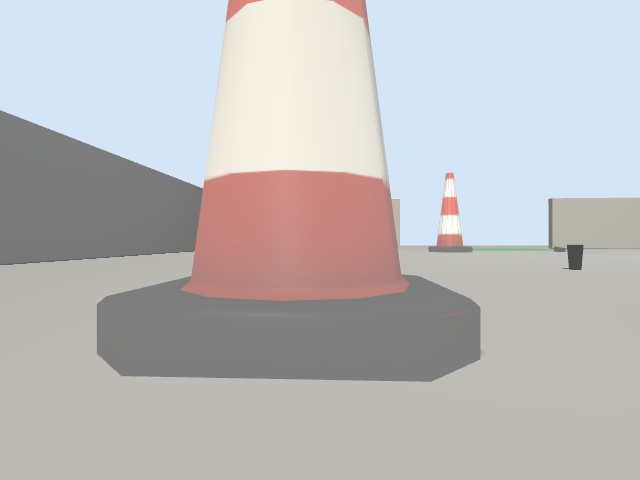cone_chantier: (96, 0, 480, 381), (428, 172, 471, 252)
gobelet: (567, 245, 583, 269), (553, 246, 565, 251)
